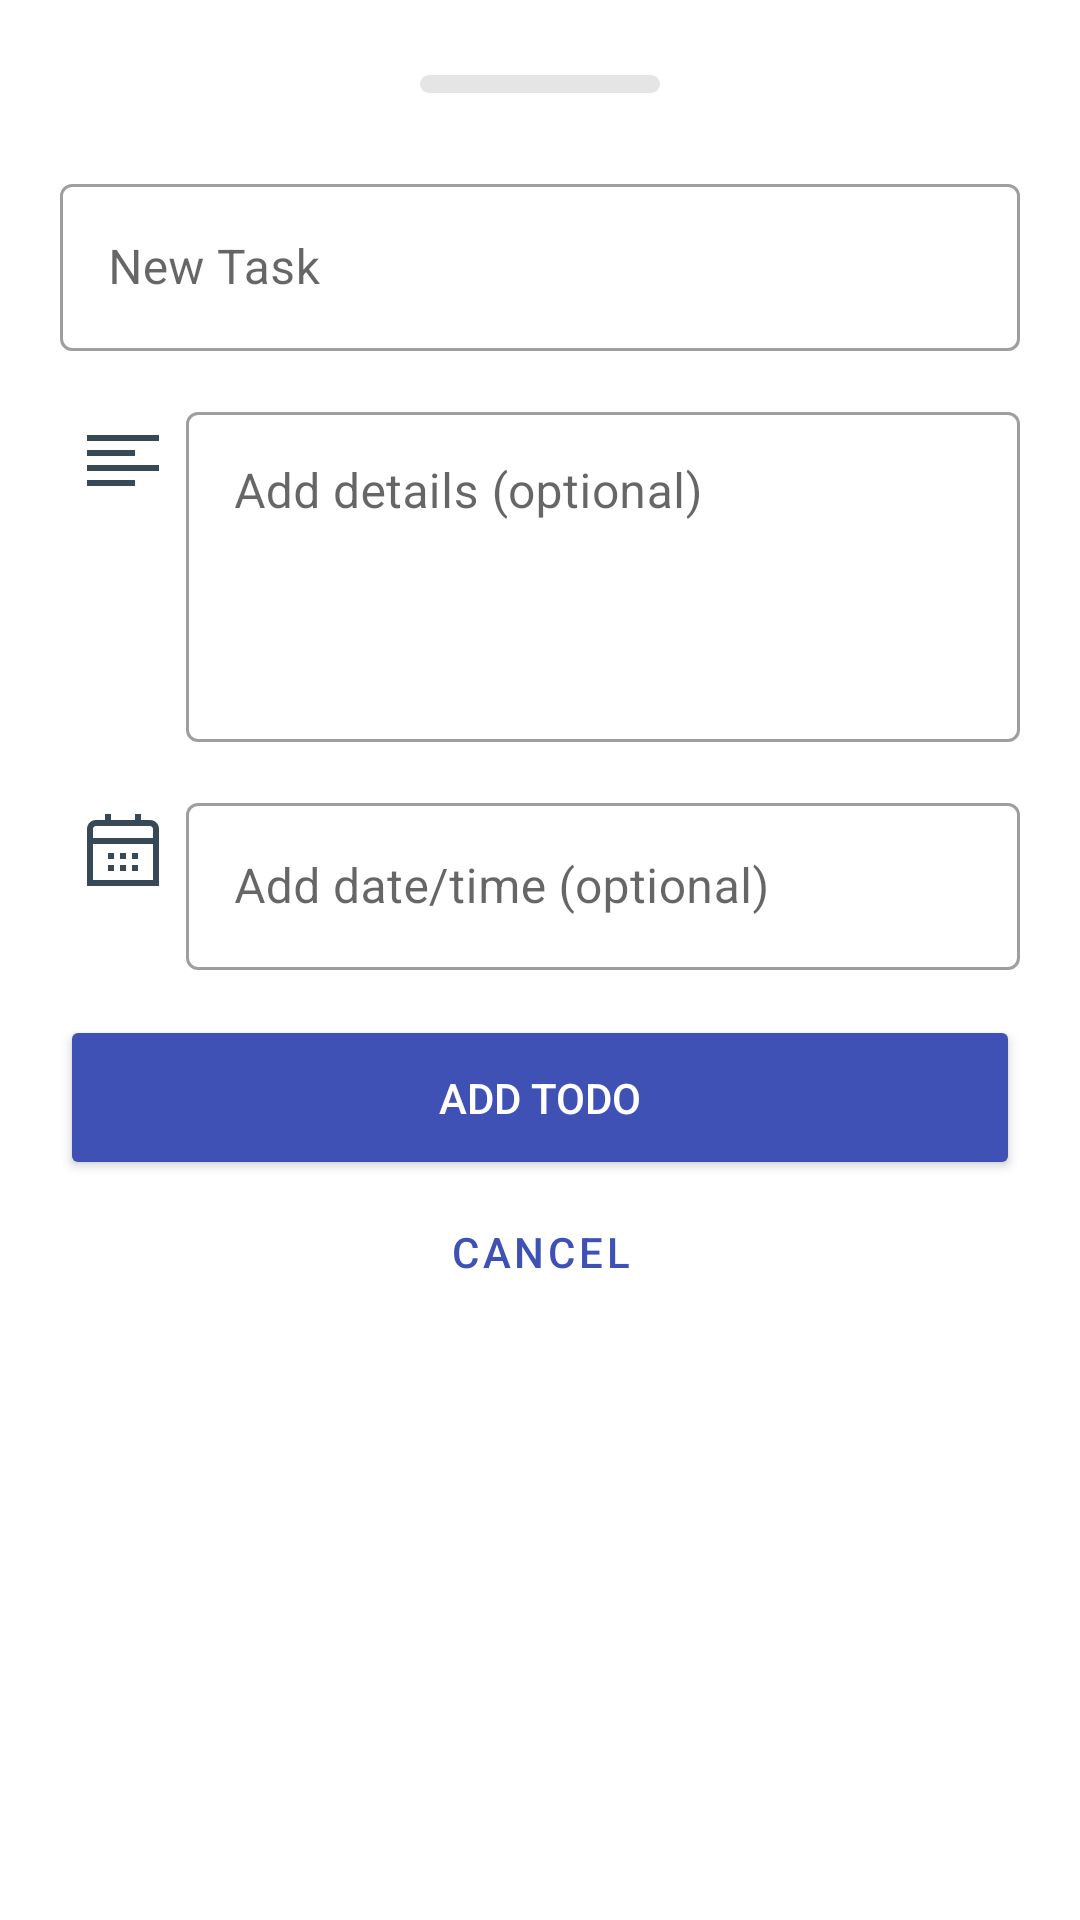

Icon click points for this 1080 x 1920 phone screenshot, format point (x, y):
align left: point (123, 460)
calendar: point (123, 850)
